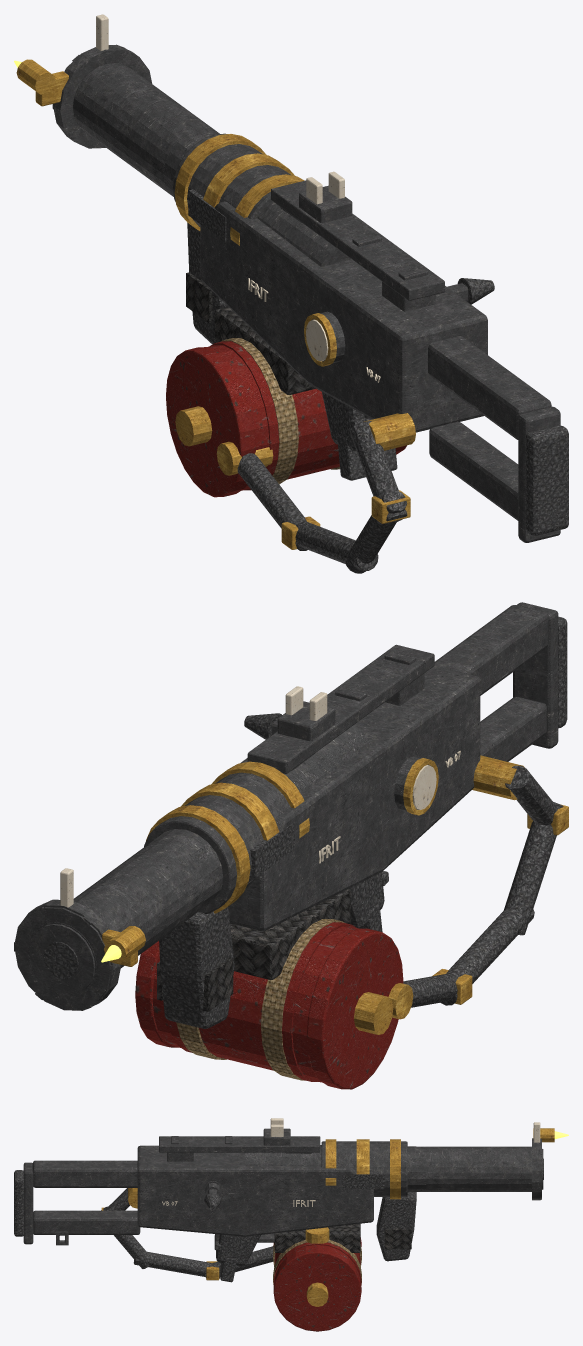
File: ifrit.gltf
3 views of the same model, one above another, from view 1: azimuth 30°, elevation 25°; view 2: azimuth 150°, elevation 25°; view 3: azimuth 270°, elevation 25° (orthographic). The views are drawn at different scales.
Parts seen in each view (by area): view 1: body, mag, bolt; view 2: body, mag, bolt; view 3: body, mag, bolt.
Boxes of the visible parts, <box> form: body: <box>14,14,568,573</box>; mag: <box>166,338,406,497</box>; bolt: <box>447,278,494,304</box>; body: <box>14,602,568,1028</box>; mag: <box>135,919,403,1089</box>; bolt: <box>244,713,281,739</box>; body: <box>14,1118,568,1282</box>; mag: <box>273,1227,361,1331</box>; bolt: <box>203,1181,221,1210</box>.
Bounding box in the file's own units: 0.2715 × 0.381 × 1.03.
8 materials, 7 textured.
